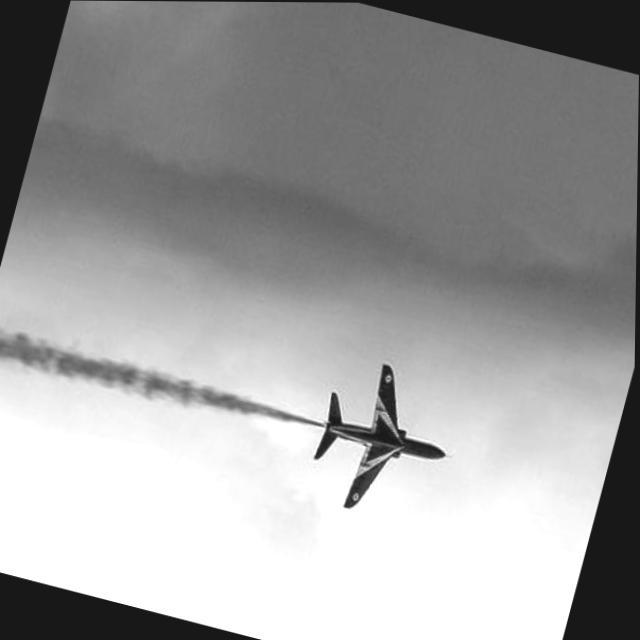aeroplane: (303, 350, 475, 530)
